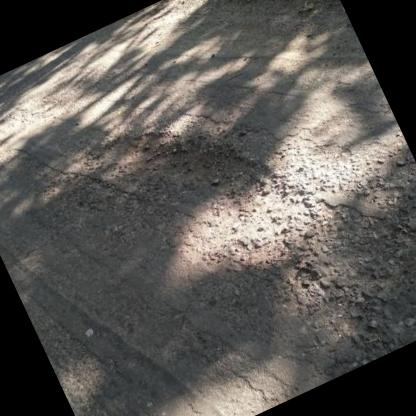pothole: (87, 83, 282, 250)
